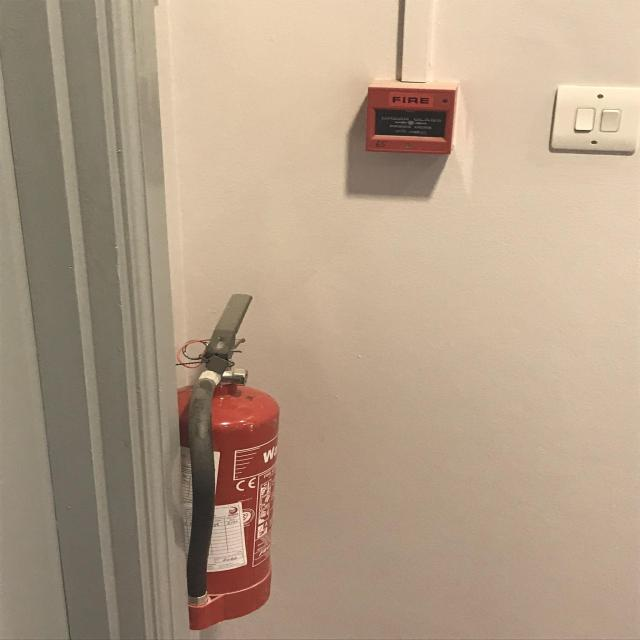fire_extinguisher: (139, 289, 284, 632)
